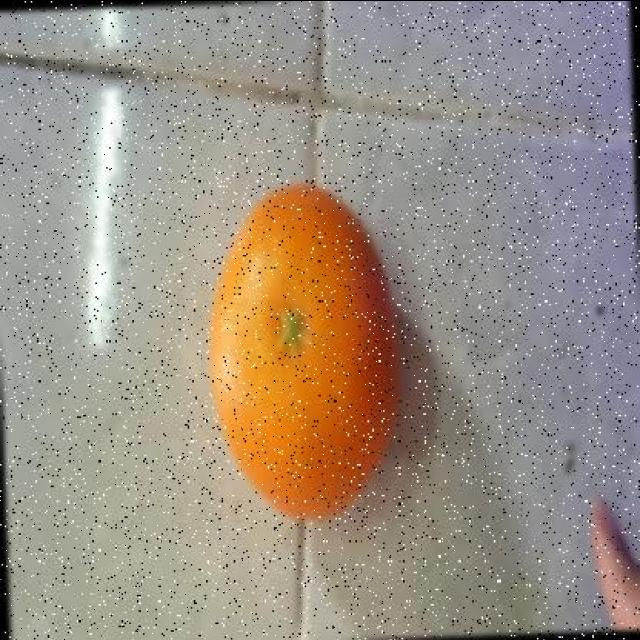Orange: (205, 180, 402, 522)
